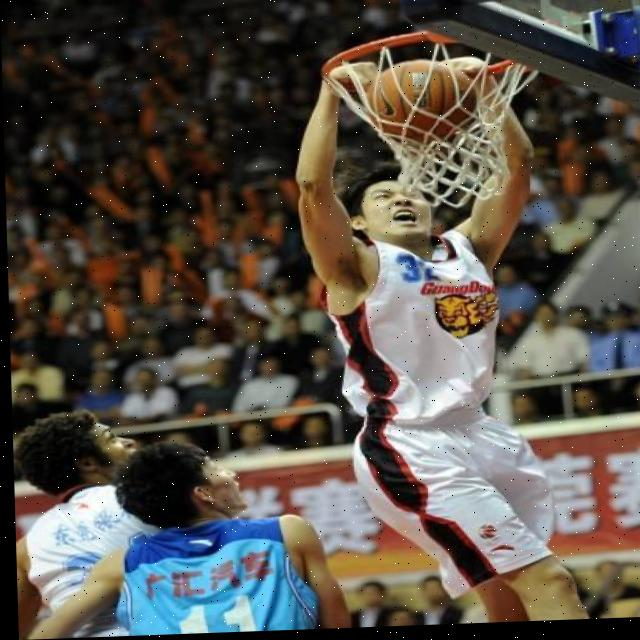basketball: (361, 59, 478, 143)
hoop: (319, 27, 540, 210), (319, 28, 540, 207)
